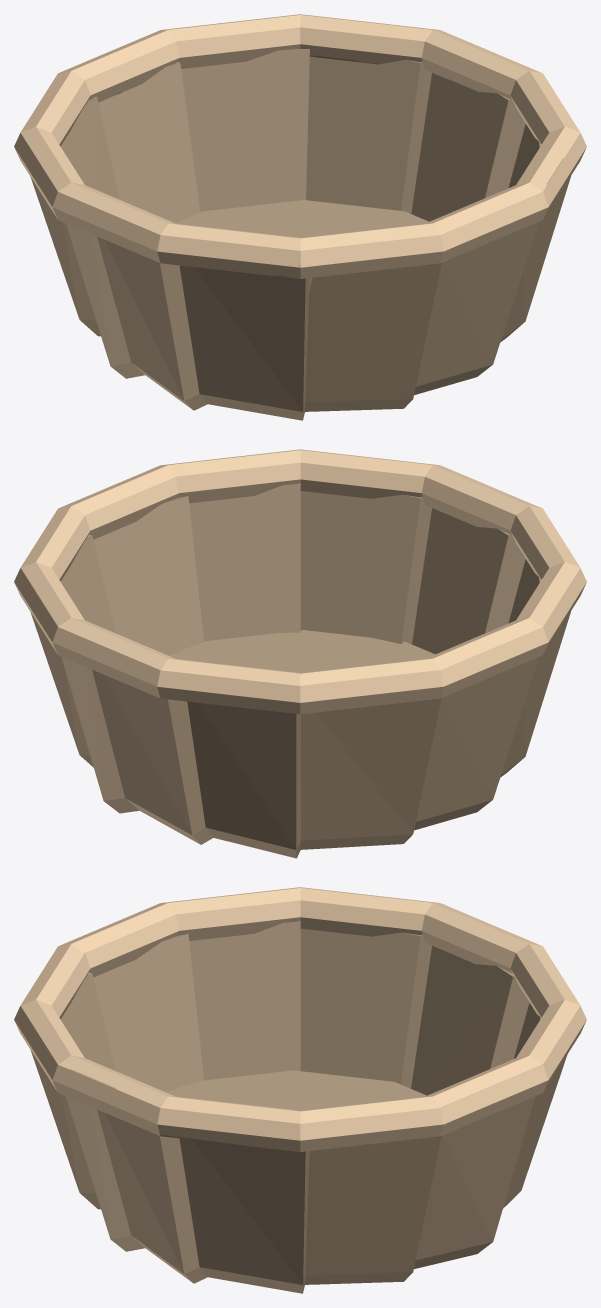
File: 杯子_塗色完成.fbx
The picture shows the model from 3 angles, top to bottom: view 1: azimuth 30°, elevation 25°; view 2: azimuth 150°, elevation 25°; view 3: azimuth 270°, elevation 25°; orthographic projection.
Parts seen in each view (by area): view 1: Circle.007; view 2: Circle.007; view 3: Circle.007.
Boxes of the visible parts, <box> form: Circle.007: <box>14,14,586,420</box>; Circle.007: <box>14,449,586,858</box>; Circle.007: <box>14,887,586,1293</box>.
Bounding box in the file's own units: 51.65 × 20.82 × 51.65.
